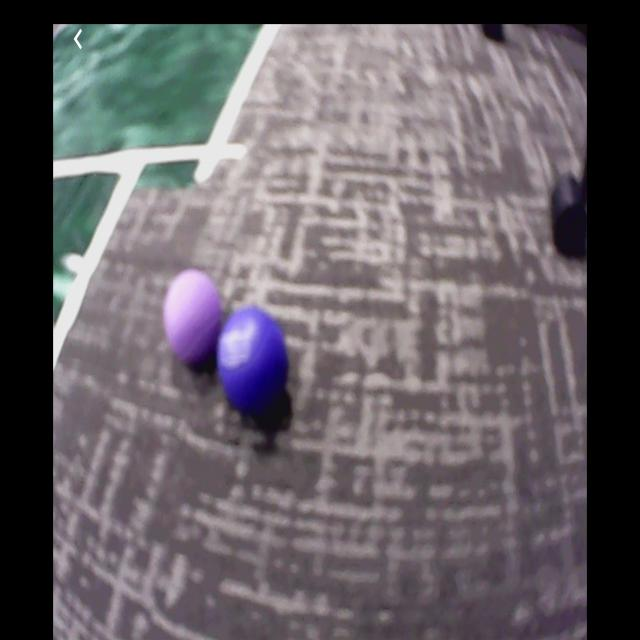ball: (220, 310, 293, 418), (163, 267, 225, 368)
